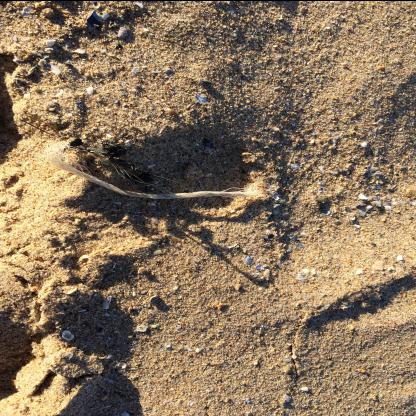diger: (45, 150, 261, 200)
